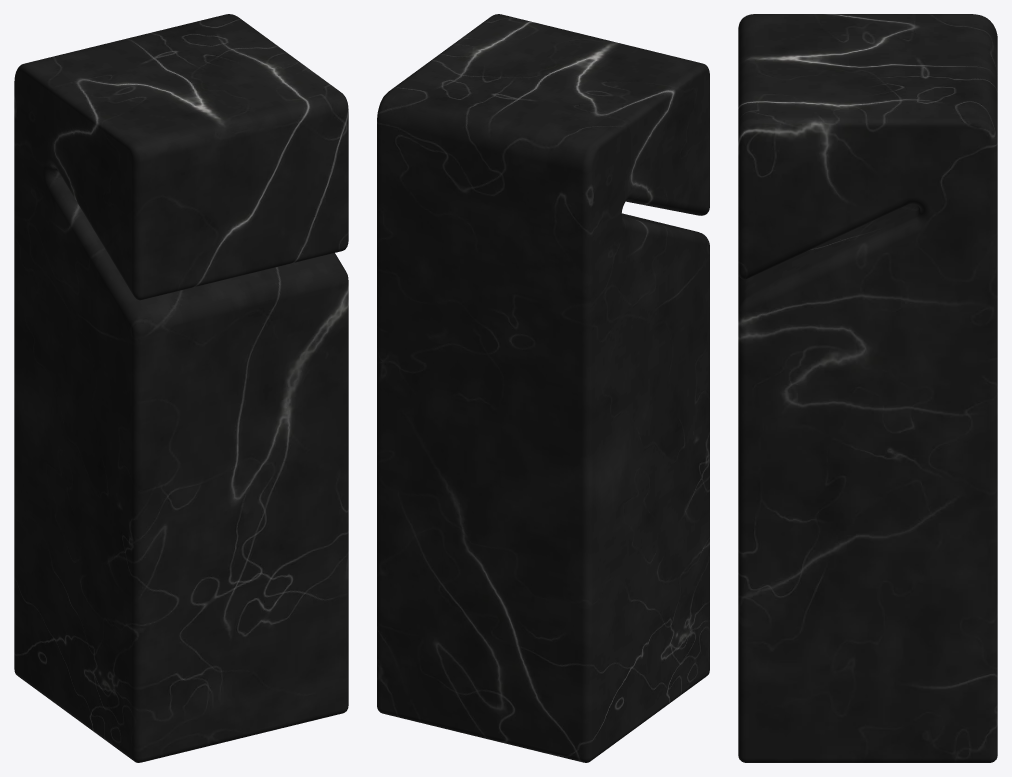
Rendered from knight-black-hd.glb.
3 renders of one model, left to right at view 1: azimuth 30°, elevation 25°; view 2: azimuth 150°, elevation 25°; view 3: azimuth 270°, elevation 25°, orthographic. The views are drawn at different scales.
Visible parts, largest first — view 1: jezdec_cerny; view 2: jezdec_cerny; view 3: jezdec_cerny.
Part boxes in pixels (x1,y1,x2,y2): jezdec_cerny: [14, 14, 348, 762]; jezdec_cerny: [377, 14, 709, 762]; jezdec_cerny: [738, 14, 997, 762].
Bounding box in the file's own units: 0.4304 × 1.18 × 0.4304.
1 material, 1 textured.
